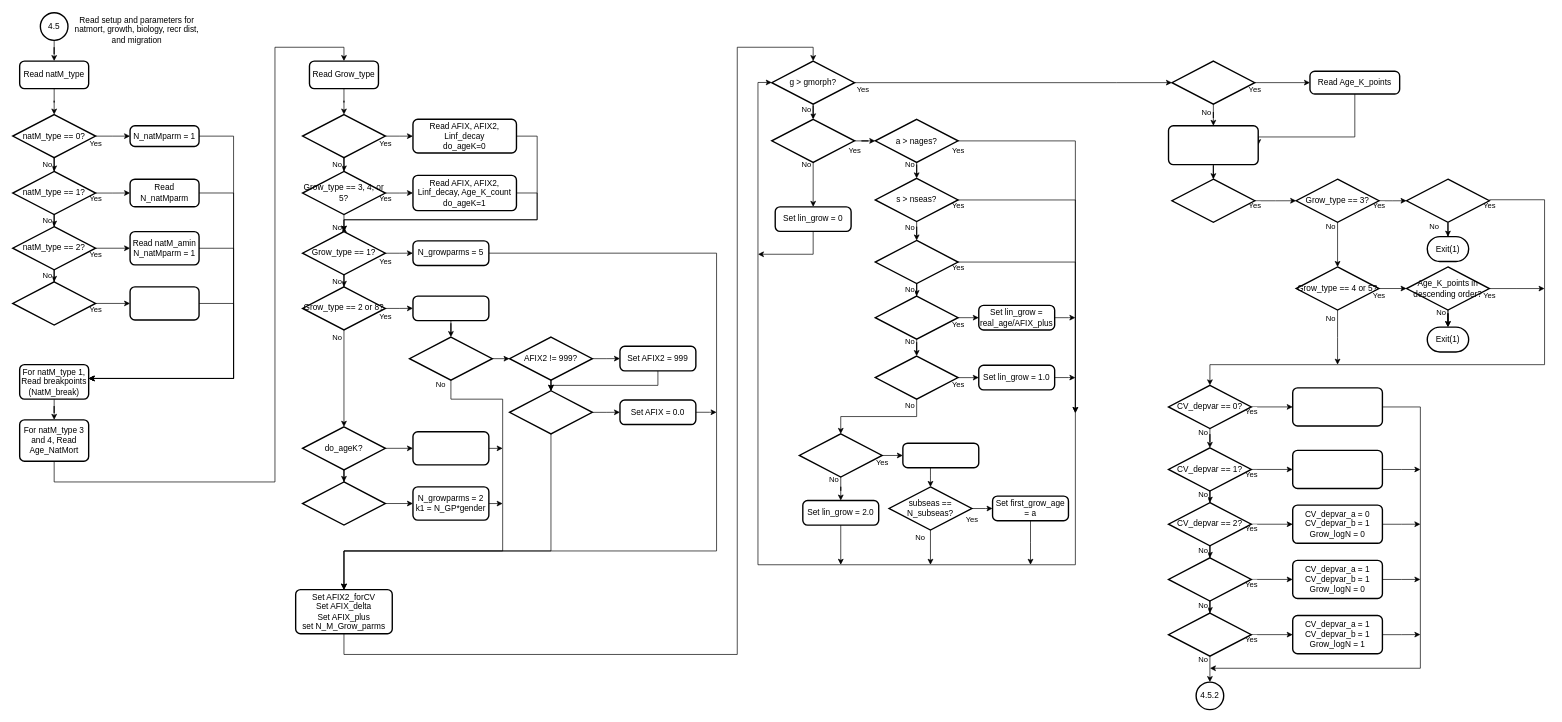
Some shapes in this 1562 by 722 pixel diagram are drawn without their labels. Each missing label, with the centre of its shape:
AFIX != 0.0?: the point at 551,412
Age_K_count > 1?: the point at 1213,200
Age_K_points > 0?: the point at 1213,82
Age_K_points in ascending order?: the point at 1448,200
CV_depvar == 3?: the point at 1209,579
CV_depvar == 4?: the point at 1209,634
CV_depvar_a = 0 CV_depvar_b = 0 Grow_logN = 0: the point at 1337,406
CV_depvar_a = 1 CV_depvar_b = 0 Grow_logN = 0: the point at 1337,469
first_grow_age(g) == 0?: the point at 840,455
Grow_type == 1, 2, or 8?: the point at 344,136
Grow_type == 6?: the point at 344,503
Grow_type == 8?: the point at 450,358
N_growparms = 5 + Age_K_count: the point at 450,448
N_growparms = 6: the point at 450,308
N_natMparm = 0 set k1 for age_natmort: the point at 164,303
natM_type >= 3?: the point at 54,303
Read Len_At_Age_rd Read SD_add_to_LAA Read CV_depvar: the point at 1213,145
real_age < AFIX?: the point at 916,317
real_age == AFIX?: the point at 916,377
Set lin_grow = -1.0: the point at 940,455
subseas > N_subseas?: the point at 916,261
use_morph?: the point at 813,140
